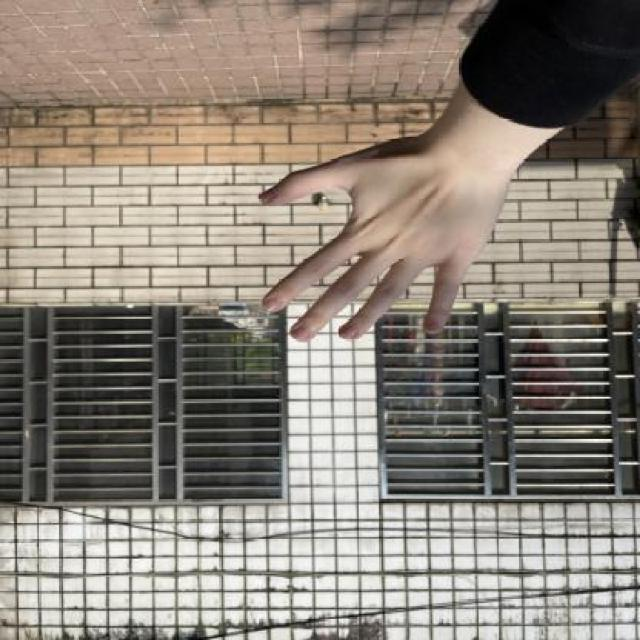bare_hand: (250, 130, 508, 356)
